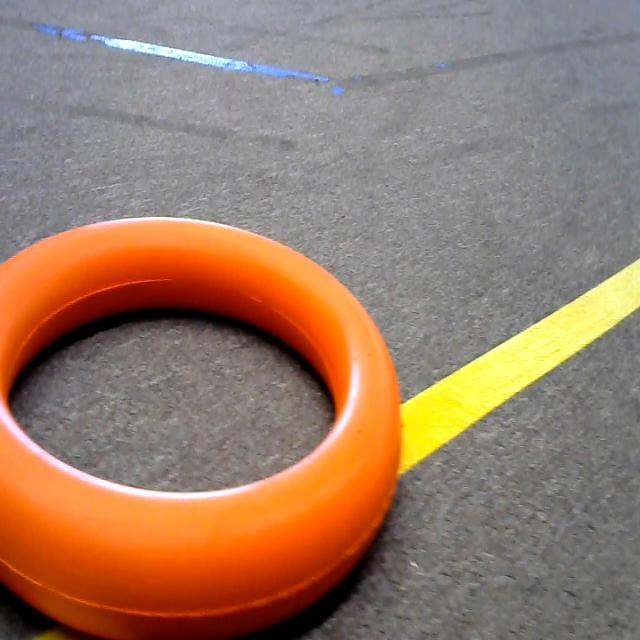note: (0, 198, 406, 640)
